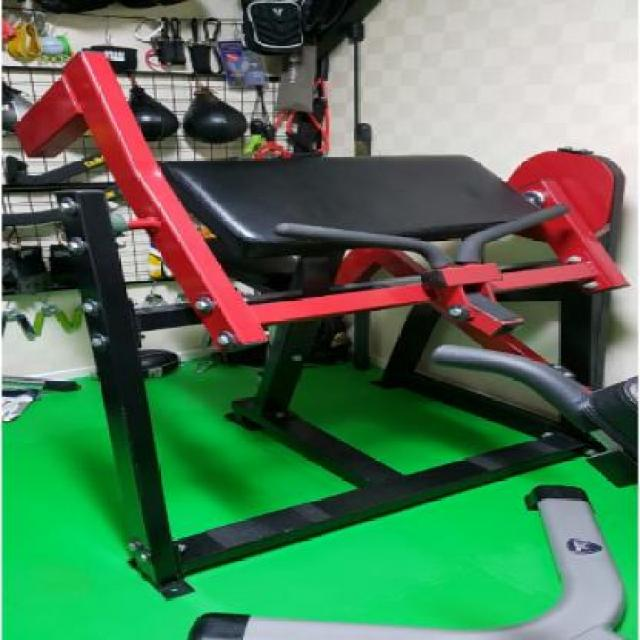arm curl machine: (0, 154, 640, 488)
